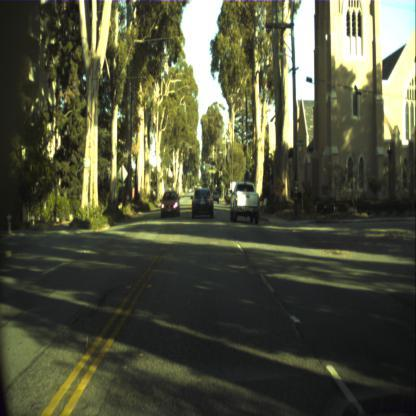Green: (202, 161, 205, 169), (219, 177, 221, 182)
